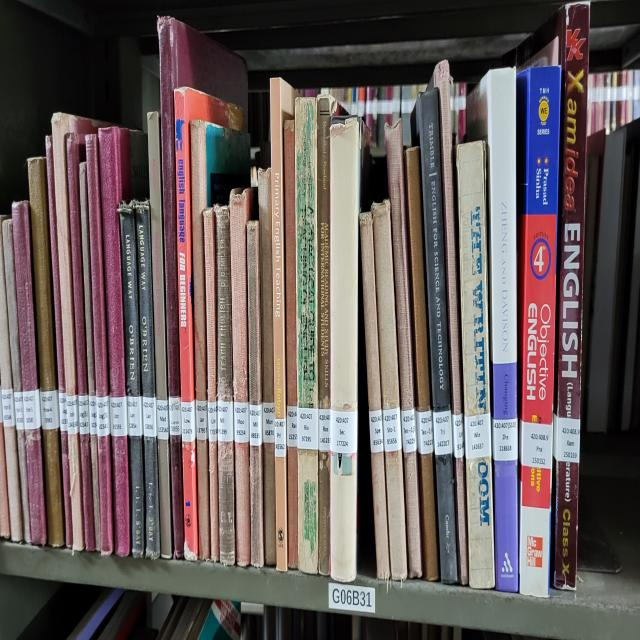Book: (158, 16, 248, 398), (174, 87, 242, 560), (468, 68, 519, 593), (545, 3, 590, 590), (516, 65, 561, 598), (51, 114, 102, 552), (414, 89, 458, 584), (415, 89, 458, 584), (429, 60, 469, 584), (456, 141, 495, 587), (385, 124, 422, 576), (28, 157, 65, 547), (371, 200, 408, 579), (330, 116, 360, 582), (99, 127, 131, 557), (270, 78, 295, 571), (66, 133, 95, 549), (86, 135, 114, 555), (12, 200, 46, 544), (295, 97, 319, 574), (45, 135, 72, 547), (360, 211, 390, 579), (148, 111, 172, 557), (119, 203, 145, 557), (2, 219, 30, 544), (135, 200, 160, 560), (190, 122, 210, 560), (230, 189, 252, 565), (80, 162, 100, 552), (215, 206, 235, 565), (404, 146, 431, 411), (0, 219, 22, 541), (259, 168, 276, 565), (202, 208, 220, 563), (284, 119, 298, 568), (318, 95, 331, 574), (246, 222, 264, 565), (170, 436, 185, 560)
Label: (520, 419, 552, 468), (552, 414, 580, 463), (330, 409, 358, 455), (465, 414, 491, 460), (492, 419, 518, 460), (432, 409, 452, 457), (382, 406, 401, 452), (298, 406, 318, 449), (40, 390, 60, 430), (416, 411, 434, 455), (401, 409, 418, 455), (22, 390, 41, 430), (110, 395, 128, 436), (234, 400, 249, 444), (218, 400, 234, 441), (369, 409, 384, 452), (181, 400, 196, 441), (142, 395, 156, 438), (96, 395, 110, 436), (128, 395, 142, 436), (249, 403, 262, 446), (452, 414, 465, 457), (66, 395, 79, 436), (156, 400, 169, 441), (195, 400, 208, 441), (262, 403, 275, 444), (1, 390, 15, 427), (169, 395, 181, 436), (286, 406, 298, 446), (319, 409, 330, 452), (79, 395, 90, 436), (275, 419, 286, 457), (208, 400, 218, 441), (14, 390, 24, 430), (59, 392, 68, 433), (89, 395, 98, 436)
